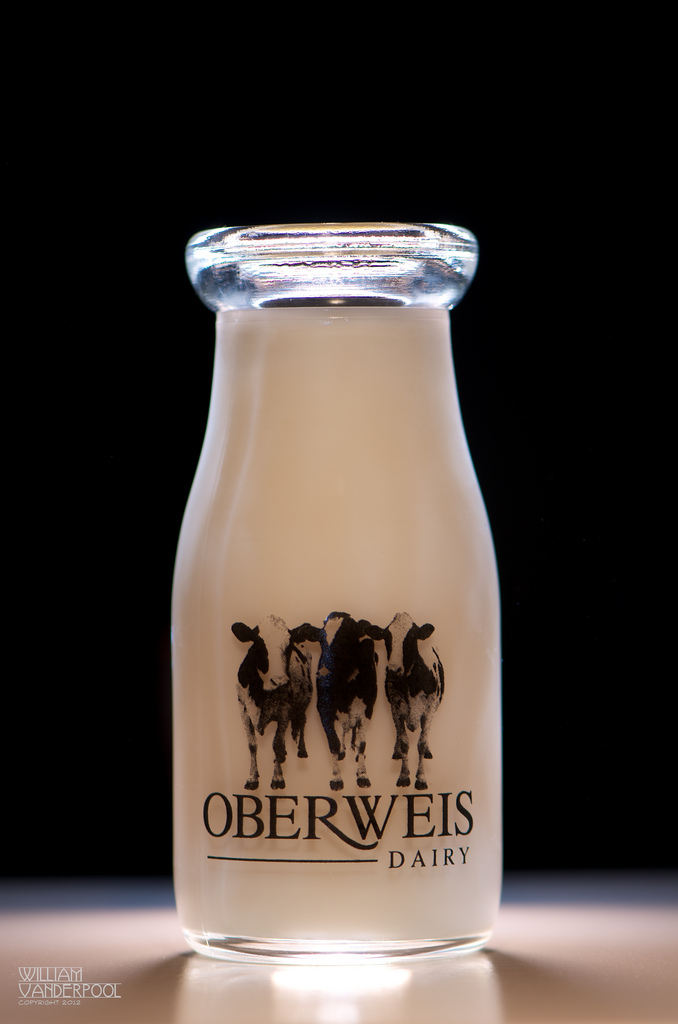glass of milk: (153, 206, 516, 953)
